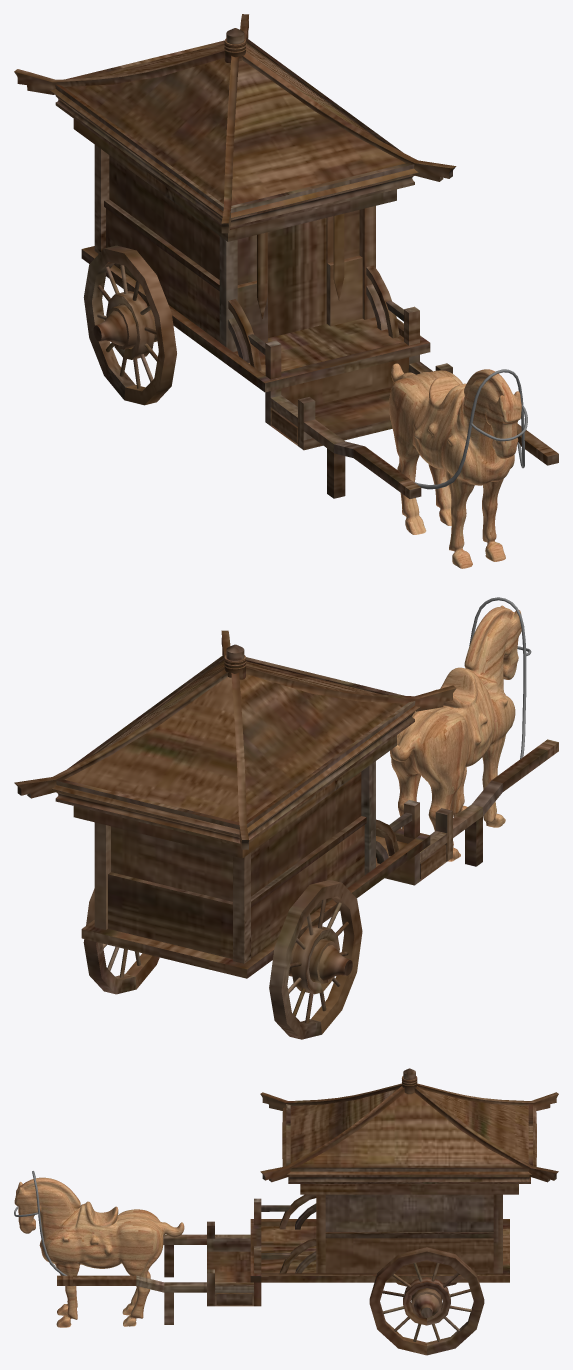
The picture shows the model from 3 angles, top to bottom: view 1: azimuth 30°, elevation 25°; view 2: azimuth 150°, elevation 25°; view 3: azimuth 270°, elevation 25°; orthographic projection. The views are drawn at different scales.
Visible parts, largest first — view 1: Carriege, tripo_node_b4bf3c65, Line001; view 2: Carriege, tripo_node_b4bf3c65, Line001; view 3: Carriege, tripo_node_b4bf3c65, Line001.
Part boxes in pixels (bbox=[...]): Carriege: bbox=[14, 14, 558, 498]; tripo_node_b4bf3c65: bbox=[389, 363, 521, 568]; Line001: bbox=[413, 369, 527, 489]; Carriege: bbox=[14, 630, 558, 1039]; tripo_node_b4bf3c65: bbox=[390, 605, 521, 861]; Line001: bbox=[469, 597, 531, 759]; Carriege: bbox=[57, 1068, 558, 1355]; tripo_node_b4bf3c65: bbox=[14, 1177, 184, 1327]; Line001: bbox=[14, 1171, 67, 1275].
Size of the model in its own units: 28383 by 38520 by 75356.
